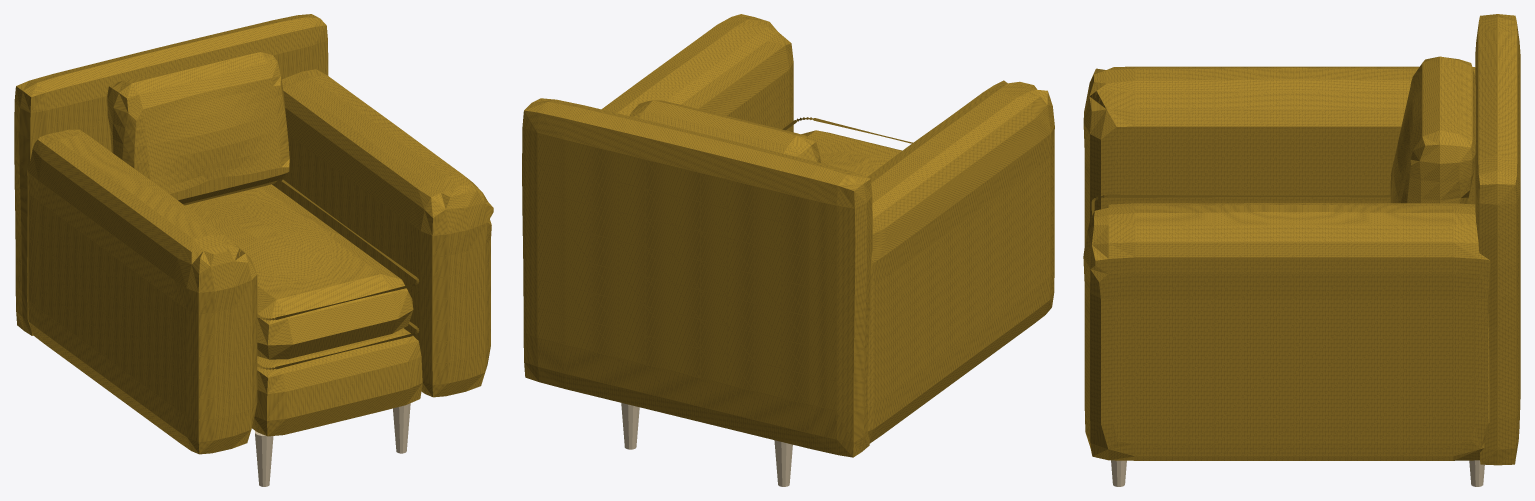
File: ATL-CLB-std.glb
The picture shows the model from 3 angles, left to right: view 1: azimuth 30°, elevation 25°; view 2: azimuth 150°, elevation 25°; view 3: azimuth 270°, elevation 25°; orthographic projection. The views are drawn at different scales.
Visible parts, largest first — view 1: arm-pad-l:fabric:eyJwcmVzZXQiOiJ0d2lsbCIsIndhcnAiOiJtdXN0YXJ, arm-pad-r:fabric:eyJwcmVzZXQiOiJ0d2lsbCIsIndhcnAiOiJtdXN0YXJ, inside-back:fabric:eyJwcmVzZXQiOiJ0d2lsbCIsIndhcnAiOiJtdXN0Y, seat:fabric:eyJwcmVzZXQiOiJ0d2lsbCIsIndhcnAiOiJtdXN0YXJkIiwi, back-pad:fabric:eyJwcmVzZXQiOiJ0d2lsbCIsIndhcnAiOiJtdXN0YXJk, deck:fabric:eyJwcmVzZXQiOiJ0d2lsbCIsIndhcnAiOiJtdXN0YXJkIiwi, seat:piping:pbr, leg-fl:pbr, leg-fr:pbr; view 2: back-pad:fabric:eyJwcmVzZXQiOiJ0d2lsbCIsIndhcnAiOiJtdXN0YXJk, arm-pad-l:fabric:eyJwcmVzZXQiOiJ0d2lsbCIsIndhcnAiOiJtdXN0YXJ, arm-pad-r:fabric:eyJwcmVzZXQiOiJ0d2lsbCIsIndhcnAiOiJtdXN0YXJ, inside-back:fabric:eyJwcmVzZXQiOiJ0d2lsbCIsIndhcnAiOiJtdXN0Y, seat:fabric:eyJwcmVzZXQiOiJ0d2lsbCIsIndhcnAiOiJtdXN0YXJkIiwi, leg-br:pbr, leg-bl:pbr; view 3: arm-pad-r:fabric:eyJwcmVzZXQiOiJ0d2lsbCIsIndhcnAiOiJtdXN0YXJ, arm-pad-l:fabric:eyJwcmVzZXQiOiJ0d2lsbCIsIndhcnAiOiJtdXN0YXJ, back-pad:fabric:eyJwcmVzZXQiOiJ0d2lsbCIsIndhcnAiOiJtdXN0YXJk, inside-back:fabric:eyJwcmVzZXQiOiJ0d2lsbCIsIndhcnAiOiJtdXN0Y, seat:piping:pbr.
Part boxes in pixels (bbox=[...]): arm-pad-l:fabric:eyJwcmVzZXQiOiJ0d2lsbCIsIndhcnAiOiJtdXN0YXJ: bbox=[27, 129, 257, 454]; arm-pad-r:fabric:eyJwcmVzZXQiOiJ0d2lsbCIsIndhcnAiOiJtdXN0YXJ: bbox=[272, 69, 493, 397]; inside-back:fabric:eyJwcmVzZXQiOiJ0d2lsbCIsIndhcnAiOiJtdXN0Y: bbox=[107, 49, 289, 205]; seat:fabric:eyJwcmVzZXQiOiJ0d2lsbCIsIndhcnAiOiJtdXN0YXJkIiwi: bbox=[185, 184, 413, 359]; back-pad:fabric:eyJwcmVzZXQiOiJ0d2lsbCIsIndhcnAiOiJtdXN0YXJk: bbox=[14, 14, 328, 335]; deck:fabric:eyJwcmVzZXQiOiJ0d2lsbCIsIndhcnAiOiJtdXN0YXJkIiwi: bbox=[252, 328, 422, 436]; seat:piping:pbr: bbox=[257, 179, 419, 369]; leg-fl:pbr: bbox=[255, 431, 273, 486]; leg-fr:pbr: bbox=[393, 403, 410, 453]; back-pad:fabric:eyJwcmVzZXQiOiJ0d2lsbCIsIndhcnAiOiJtdXN0YXJk: bbox=[522, 98, 872, 457]; arm-pad-l:fabric:eyJwcmVzZXQiOiJ0d2lsbCIsIndhcnAiOiJtdXN0YXJ: bbox=[867, 80, 1054, 443]; arm-pad-r:fabric:eyJwcmVzZXQiOiJ0d2lsbCIsIndhcnAiOiJtdXN0YXJ: bbox=[601, 14, 793, 132]; inside-back:fabric:eyJwcmVzZXQiOiJ0d2lsbCIsIndhcnAiOiJtdXN0Y: bbox=[629, 100, 820, 162]; seat:fabric:eyJwcmVzZXQiOiJ0d2lsbCIsIndhcnAiOiJtdXN0YXJkIiwi: bbox=[801, 130, 901, 176]; leg-br:pbr: bbox=[621, 403, 639, 449]; leg-bl:pbr: bbox=[774, 440, 792, 486]; arm-pad-r:fabric:eyJwcmVzZXQiOiJ0d2lsbCIsIndhcnAiOiJtdXN0YXJ: bbox=[1083, 203, 1490, 460]; arm-pad-l:fabric:eyJwcmVzZXQiOiJ0d2lsbCIsIndhcnAiOiJtdXN0YXJ: bbox=[1083, 66, 1475, 245]; back-pad:fabric:eyJwcmVzZXQiOiJ0d2lsbCIsIndhcnAiOiJtdXN0YXJk: bbox=[1475, 14, 1520, 465]; inside-back:fabric:eyJwcmVzZXQiOiJ0d2lsbCIsIndhcnAiOiJtdXN0Y: bbox=[1390, 56, 1475, 203]; seat:piping:pbr: bbox=[1091, 194, 1470, 215].
Size of the model in its own units: 0.8 by 0.76 by 0.85.
11 materials, 6 textured.
